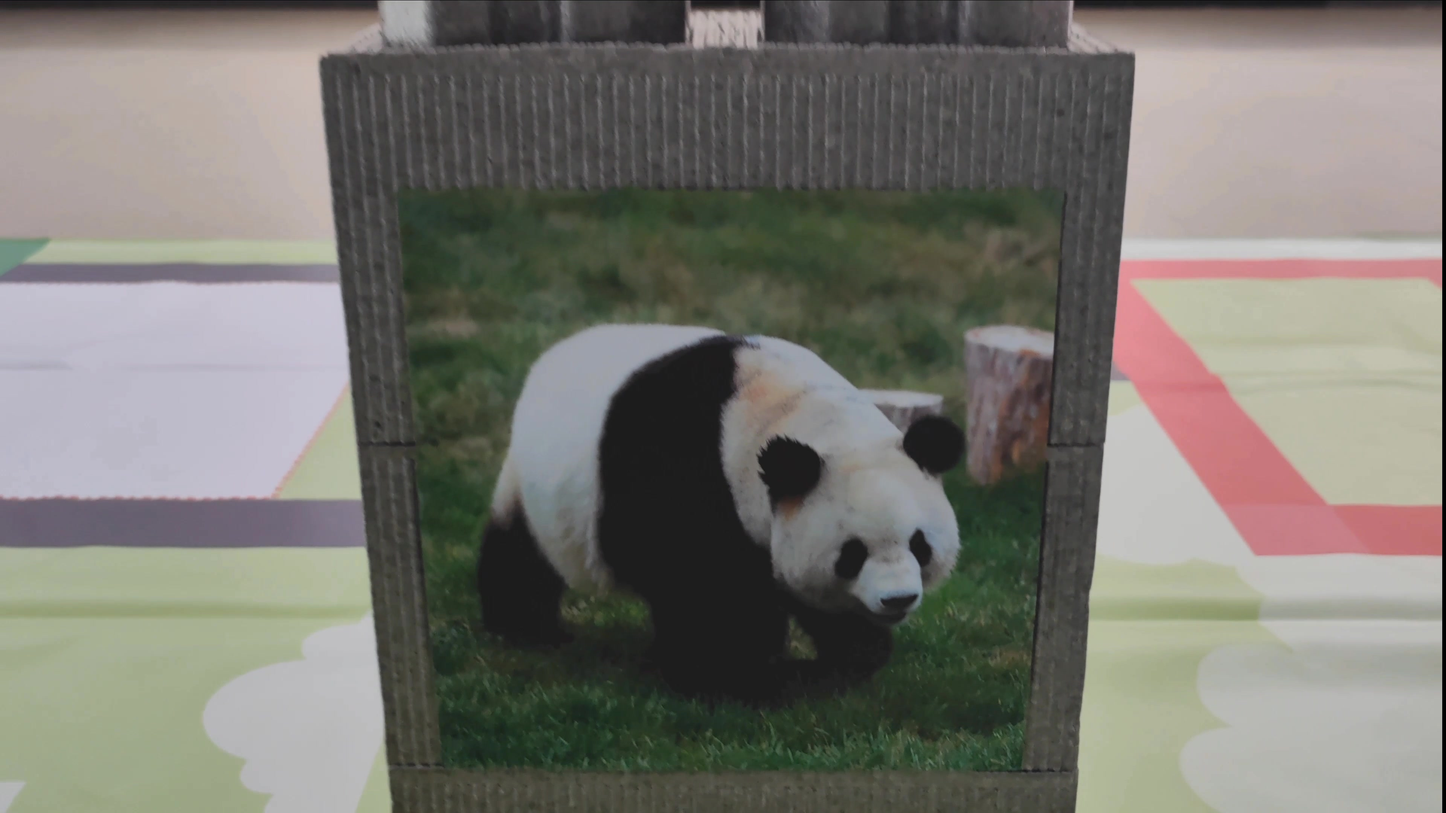panda: (459, 291, 1004, 743)
